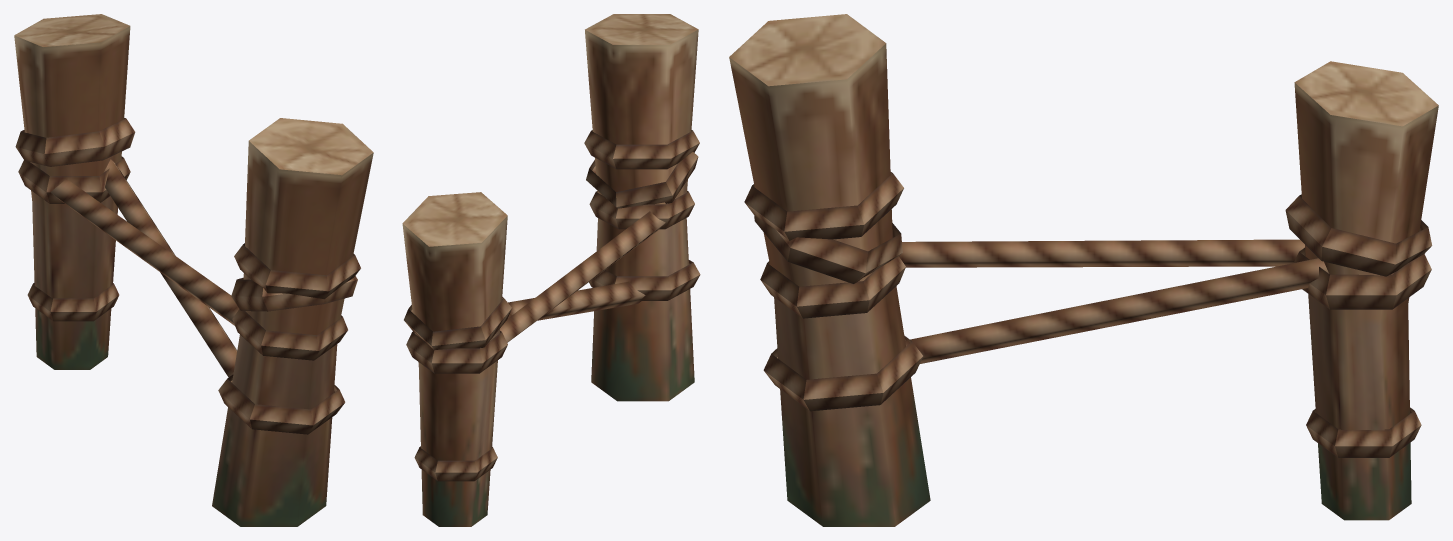
The model's file is GM_fence_02.FBX.
3 renders of one model, left to right at view 1: azimuth 30°, elevation 25°; view 2: azimuth 150°, elevation 25°; view 3: azimuth 270°, elevation 25°, orthographic. The views are drawn at different scales.
Visible parts, largest first — view 1: GM_fence_02; view 2: GM_fence_02; view 3: GM_fence_02.
Part boxes in pixels (box(x1,y1,x2,y2)): GM_fence_02: box(14, 14, 373, 526); GM_fence_02: box(402, 14, 700, 526); GM_fence_02: box(729, 14, 1438, 526).
Size of the model in its own units: 0.4042 by 1.3 by 1.77.
